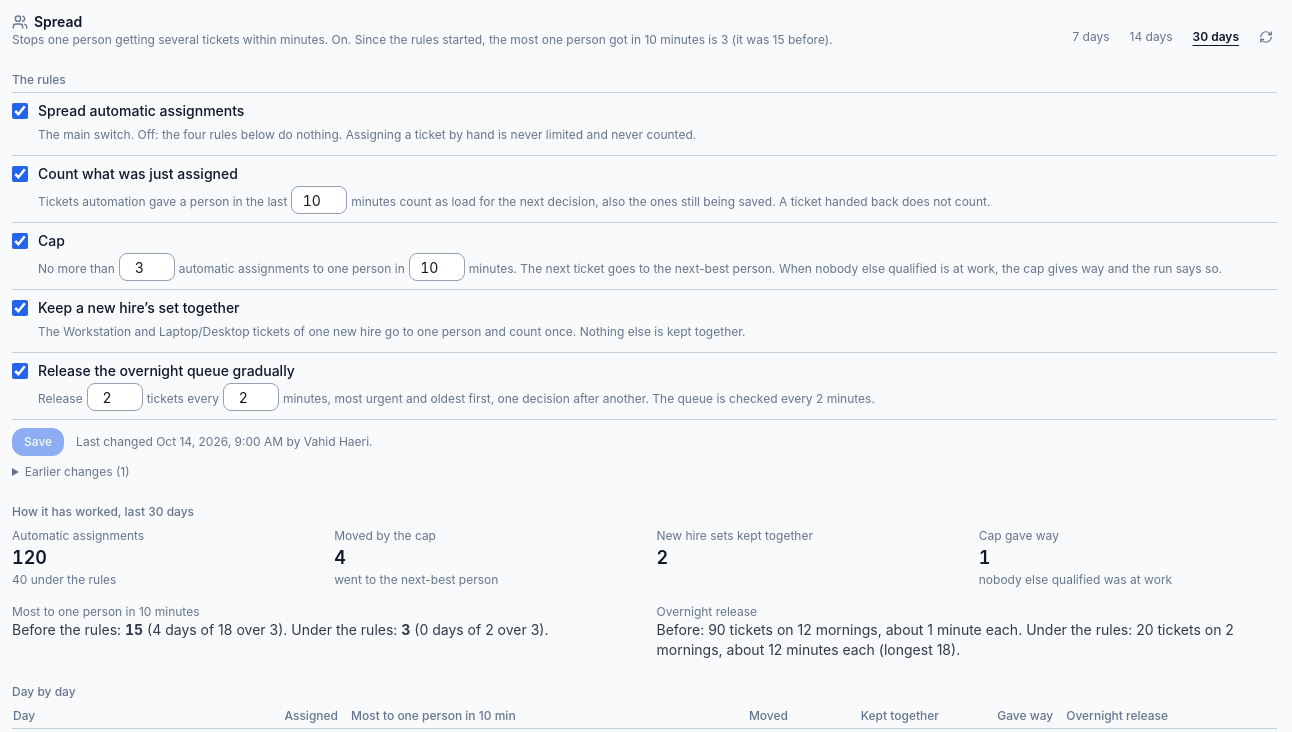
Test: SpreadTab › an admin changes the cap: only what changed is sent, and the page says it applies to the next ticket
expect the button "Save" is disabled: met, box [12,428,64,456]
Replace the text in the number field named "Cap in tickets" with "4". click: (147, 267)
box: [119,253,175,281]
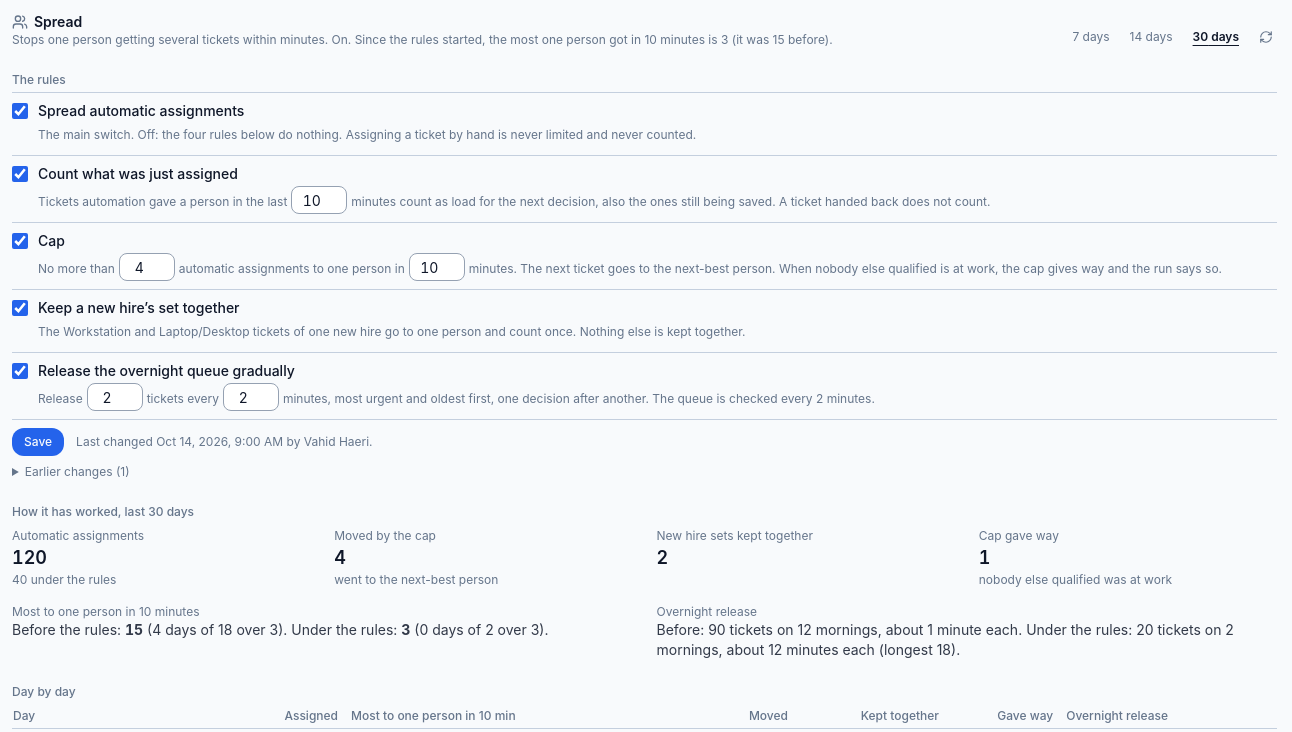
expect the button "Save" is enabled: met
Click the button "Save". click: (38, 442)
box: [12,428,64,456]
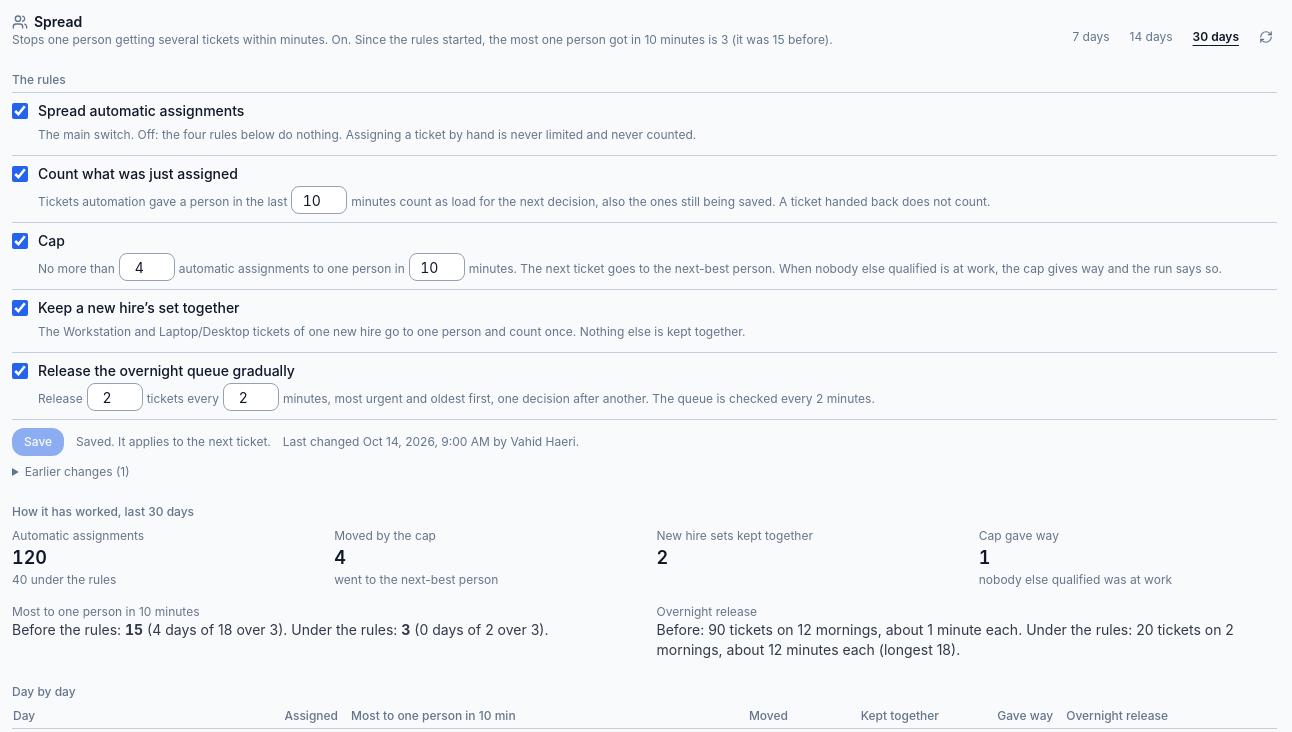
expect the text "Saved. It applies to the next ticket." is shown: met, box [76,434,271,450]
